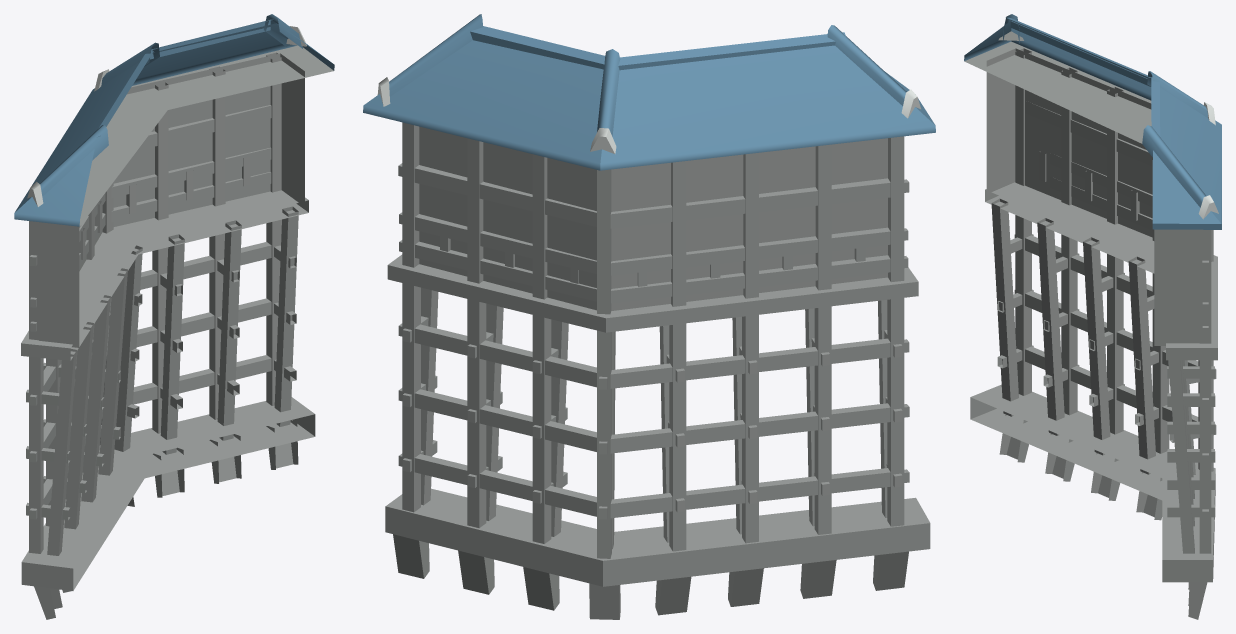
3 views of the same model, side by side, from view 1: azimuth 30°, elevation 25°; view 2: azimuth 150°, elevation 25°; view 3: azimuth 270°, elevation 25° (orthographic). The views are drawn at different scales.
Visible parts, largest first — view 1: G:\FFXIV-MapTools\exports\e3t1\bg\ex2\02_est_e3\twn\e3t1\bgp (×6); view 2: G:\FFXIV-MapTools\exports\e3t1\bg\ex2\02_est_e3\twn\e3t1\bgp (×6); view 3: G:\FFXIV-MapTools\exports\e3t1\bg\ex2\02_est_e3\twn\e3t1\bgp (×6).
Part boxes in pixels (left/top/right/bottom): G:\FFXIV-MapTools\exports\e3t1\bg\ex2\02_est_e3\twn\e3t1\bgp (×6): left=14, top=14, right=334, bottom=619; G:\FFXIV-MapTools\exports\e3t1\bg\ex2\02_est_e3\twn\e3t1\bgp (×6): left=363, top=14, right=935, bottom=619; G:\FFXIV-MapTools\exports\e3t1\bg\ex2\02_est_e3\twn\e3t1\bgp (×6): left=964, top=14, right=1221, bottom=619.
Bounding box in the file's own units: 18.93 × 22.13 × 10.94.
